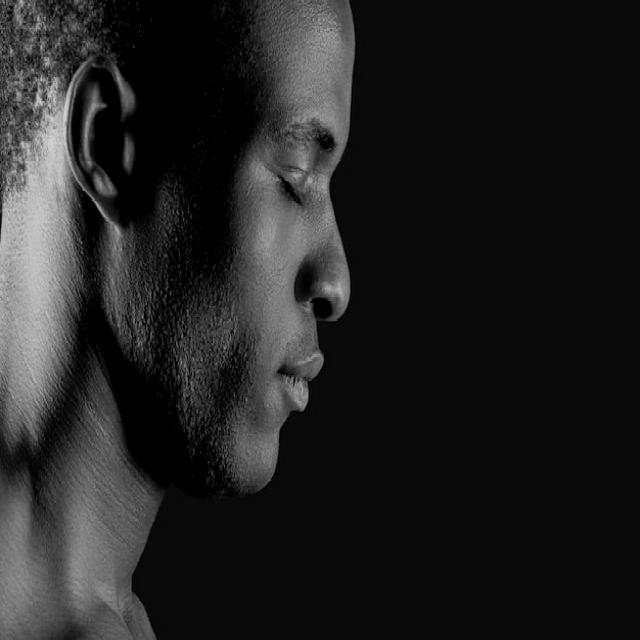real: (0, 0, 355, 499), (260, 101, 344, 232)
